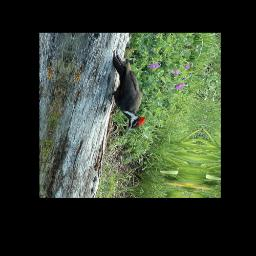Woodpecker: (96, 51, 161, 137)
